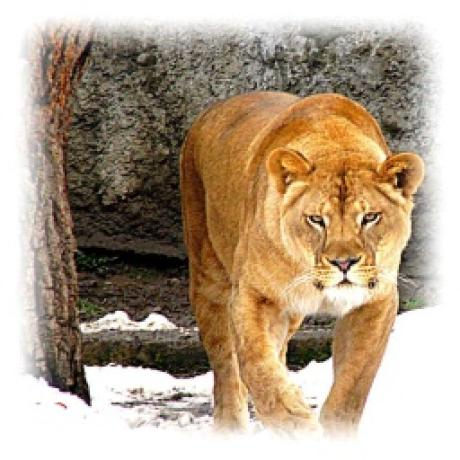Lion: (180, 87, 425, 425)
